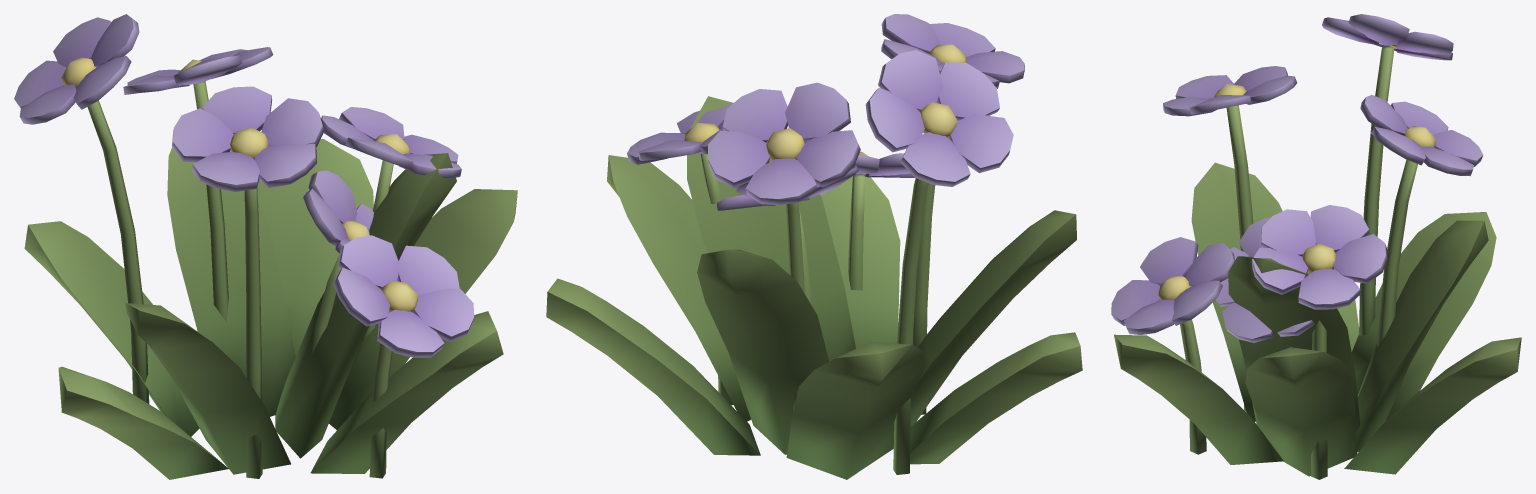
The model's file is flowers_small_b.glb.
3 renders of one model, left to right at view 1: azimuth 30°, elevation 25°; view 2: azimuth 150°, elevation 25°; view 3: azimuth 270°, elevation 25°, orthographic. The views are drawn at different scales.
Visible parts, largest first — view 1: Flowers_Small_B.001; view 2: Flowers_Small_B.001; view 3: Flowers_Small_B.001.
Part boxes in pixels (x1,y1,x2,y2): Flowers_Small_B.001: (14,14,517,479); Flowers_Small_B.001: (546,14,1082,479); Flowers_Small_B.001: (1111,14,1521,479).
Bounding box in the file's own units: 0.3951 × 0.3539 × 0.342.
